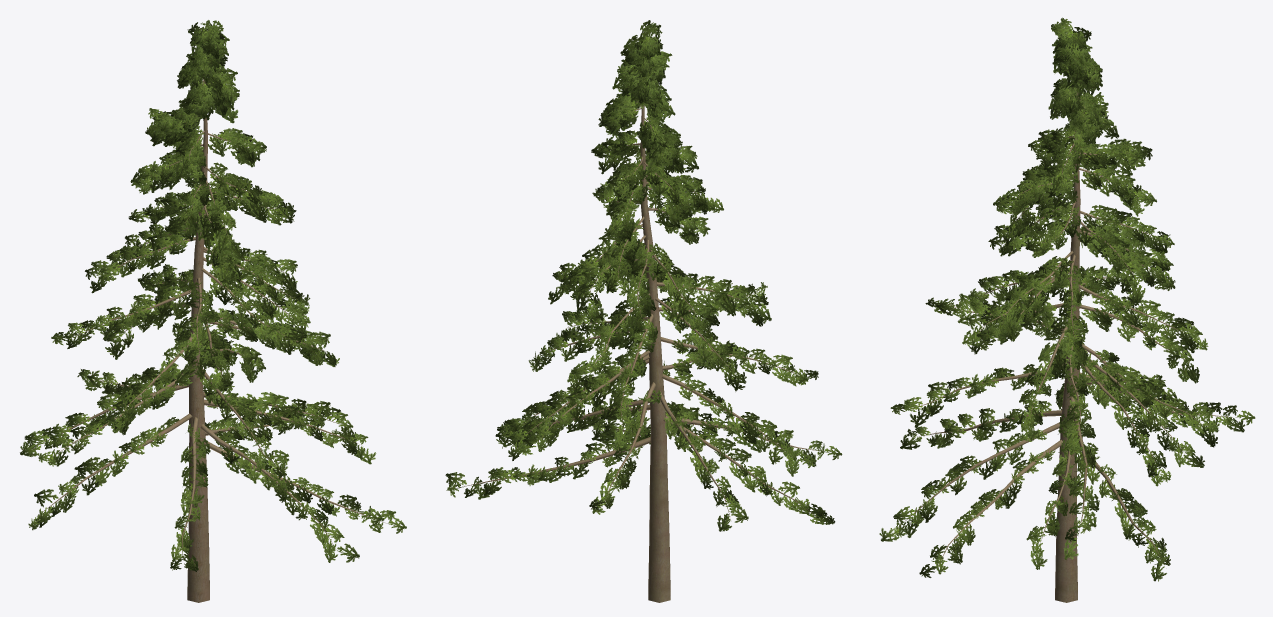
Rendered from ez-pine-01-near.glb.
The picture shows the model from 3 angles, left to right: view 1: azimuth 30°, elevation 25°; view 2: azimuth 150°, elevation 25°; view 3: azimuth 270°, elevation 25°; orthographic projection.
Parts seen in each view (by area): view 1: leaves, branches; view 2: leaves, branches; view 3: leaves, branches.
Boxes of the visible parts, x1,y1,x2,y2 form: leaves: [20, 20, 406, 571]; branches: [32, 30, 386, 602]; leaves: [445, 20, 842, 531]; branches: [460, 101, 820, 602]; leaves: [879, 17, 1255, 581]; branches: [899, 34, 1235, 602].
Bounding box in the file's own units: 32.27 × 51.17 × 30.47.
Materials: 2 (2 with a texture image).
